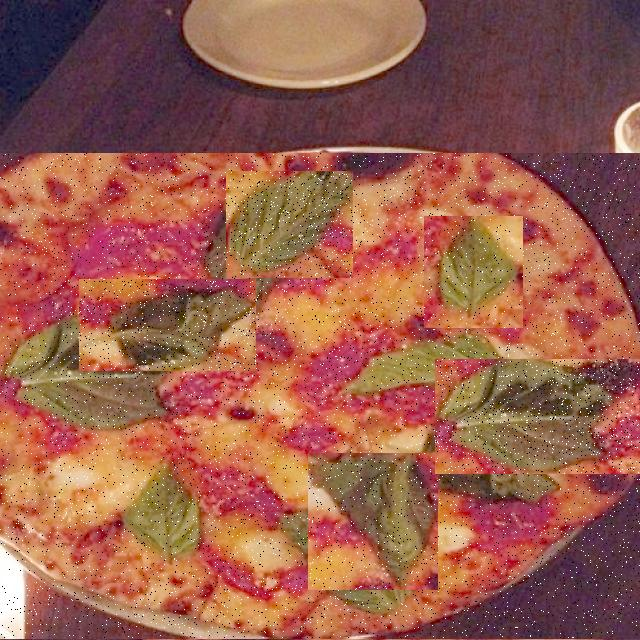Basil: (435, 360, 640, 474), (308, 454, 438, 590), (79, 280, 256, 371), (226, 172, 353, 278), (121, 394, 303, 460), (424, 217, 523, 328)
Pizza: (0, 154, 640, 638)
